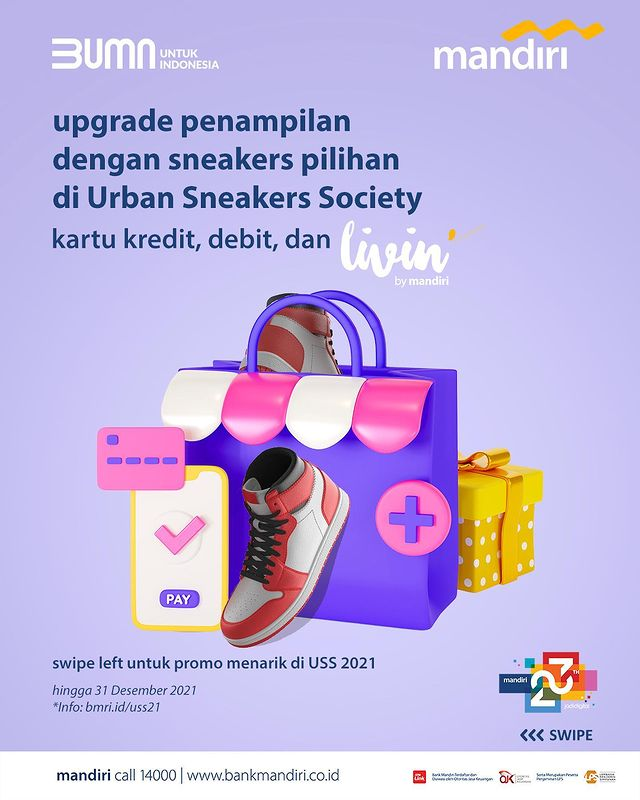ojk: (493, 765, 534, 790)
